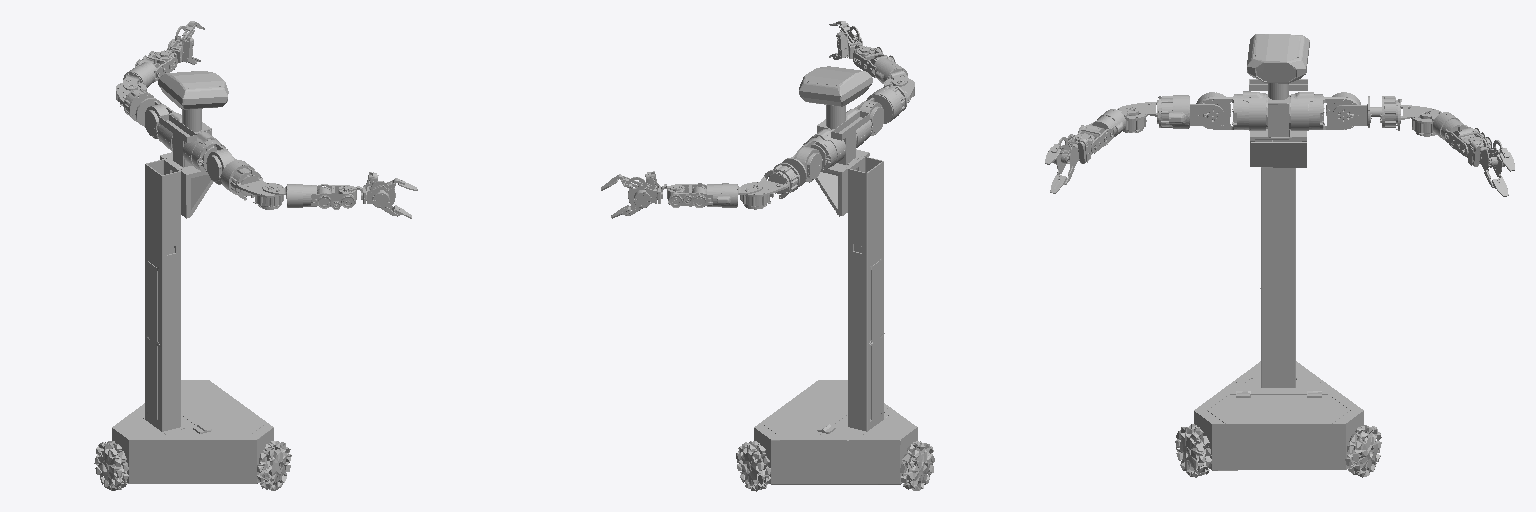
robot.urdf — my_robot:
<?xml version="1.0" encoding="utf-8"?>
<!-- This URDF was automatically created by SolidWorks to URDF Exporter! Originally created by Stephen Brawner (brawner@gmail.com) 
     Commit Version: 1.6.0-4-g7f85cfe  Build Version: 1.6.7995.38578
     For more information, please see http://wiki.ros.org/sw_urdf_exporter -->
<robot
  name="my_robot">
  <link name="root_link">...</link>
  <joint name="body_fixed" type="fixed">
    <origin rpy="0 0 0" xyz="0 0 0"/>
    <parent link="root_link"/>
    <child link="body_head_base_link"/>
  </joint>
  <link
    name="body_head_base_link">
    <inertial>
      <origin
        xyz="-0.0395726955586593 -0.000490933424187967 -0.808802318381516"
        rpy="0 0 0" />
      <mass
        value="22.0129076320108" />
      <inertia
        ixx="0.788487643897501"
        ixy="5.2148828473881E-05"
        ixz="0.00188458585705073"
        iyy="0.760376196080064"
        iyz="-3.79263008735117E-05"
        izz="0.258782982494664" />
    </inertial>
    <visual>
      <origin
        xyz="0 0 0"
        rpy="0 0 0" />
      <geometry>
        <mesh
          filename="../meshes/base_link.STL" />
      </geometry>
      <material
        name="">
        <color
          rgba="0.752941176470588 0.752941176470588 0.752941176470588 1" />
      </material>
    </visual>
    <collision>
      <origin
        xyz="0 0 0"
        rpy="0 0 0" />
      <geometry>
        <mesh
          filename="../meshes/base_link.STL" />
      </geometry>
    </collision>
  </link>
  <link
    name="Link_L1">
    <inertial>
      <origin
        xyz="-0.00622096860857377 -0.000551708897127759 0.0701255738766555"
        rpy="0 0 0" />
      <mass
        value="13.24688626577405" />
      <inertia
        ixx="0.00448926025495758"
        ixy="-2.2719531695474E-06"
        ixz="-2.32749336604218E-05"
        iyy="0.00357486768526562"
        iyz="4.75877953677058E-08"
        izz="0.00469426097973593" />
    </inertial>
    <visual>
      <origin
        xyz="0 0 0"
        rpy="0 0 0" />
      <geometry>
        <mesh
          filename="../meshes/Link_L1.STL" />
      </geometry>
      <material
        name="">
        <color
          rgba="0.752941176470588 0.752941176470588 0.752941176470588 1" />
      </material>
    </visual>
    <collision>
      <origin
        xyz="0 0 0"
        rpy="0 0 0" />
      <geometry>
        <mesh
          filename="../meshes/Link_L1.STL" />
      </geometry>
    </collision>
  </link>
  <joint
    name="l_joint1"
    type="revolute">
    <origin
      xyz="-0.000523299512978012 0.0953052927236054 -0.00147494305338181"
      rpy="-1.57037423820711 0 -0.00080319388884296" />
    <parent
      link="body_head_base_link" />
    <child
      link="Link_L1" />
    <axis
      xyz="0 0.00257547313323841 -0.99999668346357" />
    <limit
      lower="-1.8"
      upper="1.8"
      effort="0"
      velocity="0" />
  </joint>
  <link
    name="Link_L2">
    <inertial>
      <origin
        xyz="0.0702778492040597 -0.000847923281316096 -0.0197363162889606"
        rpy="0 0 0" />
      <mass
        value="0.180220326947674" />
      <inertia
        ixx="0.000163891525279795"
        ixy="3.04593422412682E-07"
        ixz="4.74390267618759E-05"
        iyy="0.000265484929884454"
        iyz="5.65887631509253E-07"
        izz="0.000271720748462501" />
    </inertial>
    <visual>
      <origin
        xyz="0 0 0"
        rpy="0 0 0" />
      <geometry>
        <mesh
          filename="../meshes/Link_L2.STL" />
      </geometry>
      <material
        name="">
        <color
          rgba="0.752941176470588 0.752941176470588 0.752941176470588 1" />
      </material>
    </visual>
    <collision>
      <origin
        xyz="0 0 0"
        rpy="0 0 0" />
      <geometry>
        <mesh
          filename="../meshes/Link_L2.STL" />
      </geometry>
    </collision>
  </link>
  <joint
    name="l_joint2"
    type="revolute">
    <origin
      xyz="0.0284999999999999 -0.000320646405089178 0.124499587091213"
      rpy="-0.734487126632078 -1.56695351255895 -2.40710919964933" />
    <parent
      link="Link_L1" />
    <child
      link="Link_L2" />
    <axis
      xyz="-0.00285204148913067 0 -0.999995932921402" />
    <limit
      lower="0"
      upper="1.9"
      effort="0"
      velocity="0" />
  </joint>
  <link
    name="Link_L3">
    <inertial>
      <origin
        xyz="-0.0169478766376025 -0.00894375786790924 0.0736061165005361"
        rpy="0 0 0" />
      <mass
        value="0.944101892000319" />
      <inertia
        ixx="0.000811225715143948"
        ixy="1.67427743837267E-06"
        ixz="5.26026555280172E-05"
        iyy="0.000965364589869333"
        iyz="-1.36356615143969E-05"
        izz="0.000926370435940605" />
    </inertial>
    <visual>
      <origin
        xyz="0 0 0"
        rpy="0 0 0" />
      <geometry>
        <mesh
          filename="../meshes/Link_L3.STL" />
      </geometry>
      <material
        name="">
        <color
          rgba="0.752941176470588 0.752941176470588 0.752941176470588 1" />
      </material>
    </visual>
    <collision>
      <origin
        xyz="0 0 0"
        rpy="0 0 0" />
      <geometry>
        <mesh
          filename="../meshes/Link_L3.STL" />
      </geometry>
    </collision>
  </link>
  <joint
    name="l_joint3"
    type="revolute">
    <origin
      xyz="0.12858076056284 0 -0.0281333967569068"
      rpy="0 1.5679442814393 0" />
    <parent
      link="Link_L2" />
    <child
      link="Link_L3" />
    <axis
      xyz="0 0 -1" />
    <limit
      lower="-2.60"
      upper="1.4"
      effort="0"
      velocity="0" />
  </joint>
  <link
    name="Link_L4">
    <inertial>
      <origin
        xyz="0.0284274073608016 -0.0705882517762382 -0.0172897359918851"
        rpy="0 0 0" />
      <mass
        value="0.134969510282772" />
      <inertia
        ixx="0.000103702648877659"
        ixy="1.35275461314136E-05"
        ixz="3.09800521393426E-06"
        iyy="8.35009684793085E-05"
        iyz="-9.57544156333126E-06"
        izz="8.68120958057744E-05" />
    </inertial>
    <visual>
      <origin
        xyz="0 0 0"
        rpy="0 0 0" />
      <geometry>
        <mesh
          filename="../meshes/Link_L4.STL" />
      </geometry>
      <material
        name="">
        <color
          rgba="0.752941176470588 0.752941176470588 0.752941176470588 1" />
      </material>
    </visual>
    <collision>
      <origin
        xyz="0 0 0"
        rpy="0 0 0" />
      <geometry>
        <mesh
          filename="../meshes/Link_L4.STL" />
      </geometry>
    </collision>
  </link>
  <joint
    name="l_joint4"
    type="revolute">
    <origin
      xyz="-0.0394395225535319 0.013809954439718 0.151105847162617"
      rpy="-1.5707963267949 0 0" />
    <parent
      link="Link_L3" />
    <child
      link="Link_L4" />
    <axis
      xyz="0 0 -1" />
    <limit
      lower="0.25"
      upper="1.9"
      effort="0"
      velocity="0" />
  </joint>
  <link
    name="Link_L5">
    <inertial>
      <origin
        xyz="-0.000224346582011301 -0.000757515781277585 -0.0624849918842907"
        rpy="0 0 0" />
      <mass
        value="0.578376916777973" />
      <inertia
        ixx="0.000437999253405115"
        ixy="-3.99995148344188E-09"
        ixz="-4.17302167877557E-08"
        iyy="0.000374540434696389"
        iyz="4.37239990946971E-07"
        izz="0.000312313081966596" />
    </inertial>
    <visual>
      <origin
        xyz="0 0 0"
        rpy="0 0 0" />
      <geometry>
        <mesh
          filename="../meshes/Link_L5.STL" />
      </geometry>
      <material
        name="">
        <color
          rgba="0.752941176470588 0.752941176470588 0.752941176470588 1" />
      </material>
    </visual>
    <collision>
      <origin
        xyz="0 0 0"
        rpy="0 0 0" />
      <geometry>
        <mesh
          filename="../meshes/Link_L5.STL" />
      </geometry>
    </collision>
  </link>
  <joint
    name="l_joint5"
    type="revolute">
    <origin
      xyz="0.0298875953138846 -0.10950001926102 -0.02101726764403"
      rpy="-1.56779876222666 0 0.000803193888832527" />
    <parent
      link="Link_L4" />
    <child
      link="Link_L5" />
    <axis
      xyz="0 0 1" />
    <limit
      lower="-1.79"
      upper="1.79"
      effort="0"
      velocity="0" />
  </joint>
  <link
    name="Link_L6">
    <inertial>
      <origin
        xyz="0.000662449221940142 -0.000550406839236128 0.0361352833772085"
        rpy="0 0 0" />
      <mass
        value="0.171828875921239" />
      <inertia
        ixx="8.05566694711738E-05"
        ixy="6.43323162845359E-10"
        ixz="1.36931448270043E-06"
        iyy="6.22788007038775E-05"
        iyz="-8.69273532803977E-10"
        izz="5.97407437374212E-05" />
    </inertial>
    <visual>
      <origin
        xyz="0 0 0"
        rpy="0 0 0" />
      <geometry>
        <mesh
          filename="../meshes/Link_L6.STL" />
      </geometry>
      <material
        name="">
        <color
          rgba="0.752941176470588 0.752941176470588 0.752941176470588 1" />
      </material>
    </visual>
    <collision>
      <origin
        xyz="0 0 0"
        rpy="0 0 0" />
      <geometry>
        <mesh
          filename="../meshes/Link_L6.STL" />
      </geometry>
    </collision>
  </link>
  <joint
    name="l_joint6"
    type="revolute">
    <origin
      xyz="0.042001635817149 -0.000724630037761853 -0.16648505966172"
      rpy="-1.5707963267949 0 1.5707963267949" />
    <parent
      link="Link_L5" />
    <child
      link="Link_L6" />
    <axis
      xyz="0 0 1" />
    <limit
      lower="-1.39"
      upper="1.39"
      effort="0"
      velocity="0" />
  </joint>
  <link
    name="Link_L7">
    <inertial>
      <origin
        xyz="0.00283768237231645 0.105216203472544 0.0401787874475281"
        rpy="0 0 0" />
      <mass
        value="0.354175566621878" />
      <inertia
        ixx="0.000216957048203233"
        ixy="3.89674309210907E-06"
        ixz="-4.87146243597934E-06"
        iyy="0.00013524087296399"
        iyz="-1.55322629278603E-05"
        izz="0.000141100848319185" />
    </inertial>
    <visual>
      <origin
        xyz="0 0 0"
        rpy="-3.14 0 1.57" />
      <geometry>
        <mesh
          filename="../meshes/Link_L7.STL" />
      </geometry>
      <material
        name="">
        <color
          rgba="0.752941176470588 0.752941176470588 0.752941176470588 1" />
      </material>
    </visual>
    <collision>
      <origin
        xyz="0 0 0"
        rpy="1.57 0 -1.57" />
      <geometry>
        <mesh
          filename="../meshes/Link_L7.STL" />
      </geometry>
    </collision>
  </link>
  <joint
    name="l_joint7"
    type="revolute">
    <origin
      xyz="-0.030999999999997 0 0.041999999999999"
      rpy="-1.5707963267949 0 1.5707963267949" />
    <parent
      link="Link_L6" />
    <child
      link="Link_L7" />
    <axis
      xyz="0 0 -1" />
    <limit
      lower="-0.6"
      upper="0.6"
      effort="0"
      velocity="0" />
  </joint>
  <link
    name="Link_L8">
    <inertial>
      <origin
        xyz="0.0658327997364676 -0.0167486810232525 0.00405704005705805"
        rpy="0 0 0" />
      <mass
        value="0.103465559541858" />
      <inertia
        ixx="1.20687682740846E-05"
        ixy="1.64000296963822E-06"
        ixz="8.49147736848476E-08"
        iyy="3.03401882912199E-05"
        iyz="-1.46257014335449E-08"
        izz="3.40694216131428E-05" />
    </inertial>
    <visual>
      <origin
        xyz="-0.1 -0.03 0.02"
        rpy="1.57 -1.57 1.57" />
      <geometry>
        <mesh
          filename="../meshes/Link_L8.STL" />
      </geometry>
      <material
        name="">
        <color
          rgba="0.752941176470588 0.752941176470588 0.752941176470588 1" />
      </material>
    </visual>
    <collision>
      <origin
        xyz="0 0 0"
        rpy="0 0 0" />
      <geometry>
        <mesh
          filename="../meshes/Link_L8.STL" />
      </geometry>
    </collision>
  </link>
  <joint
    name="l_joint8"
    type="revolute">
    <origin
      xyz="0.09049999999999989 0.101332760309079 0.0304068201216476"
      rpy="1.5707963267949 0 1.56874748814143" />
    <parent
      link="Link_L7" />
    <child
      link="Link_L8" />
    <axis
      xyz="1 0 0" />
    <limit
      lower="0"
      upper="0.6"
      effort="0"
      velocity="0" />
  </joint>
  <link
    name="Link_R1">
    <inertial>
      <origin
        xyz="-0.00616219687904292 -0.000141488074097751 -0.0694269573729014"
        rpy="0 0 0" />
      <mass
        value="3.28307302760882" />
      <inertia
        ixx="0.00449648787808696"
        ixy="2.33189192958491E-06"
        ixz="2.32688011320957E-05"
        iyy="0.00358048650747306"
        iyz="-7.97382955038679E-06"
        izz="0.00470733456558145" />
    </inertial>
    <visual>
      <origin
        xyz="0 0 0"
        rpy="0 0 0" />
      <geometry>
        <mesh
          filename="../meshes/Link_R1.STL" />
      </geometry>
      <material
        name="">
        <color
          rgba="0.752941176470588 0.752941176470588 0.752941176470588 1" />
      </material>
    </visual>
    <collision>
      <origin
        xyz="0 0 0"
        rpy="0 0 0" />
      <geometry>
        <mesh
          filename="../meshes/Link_R1.STL" />
      </geometry>
    </collision>
  </link>
  <joint
    name="r_joint1"
    type="revolute">
    <origin
      xyz="0 -0.0955000000000005 0"
      rpy="-1.5707963267949 0 0" />
    <parent
      link="body_head_base_link" />
    <child
      link="Link_R1" />
    <axis
      xyz="0 0 1" />
    <limit
      lower="-1.8"
      upper="1.8"
      effort="0"
      velocity="0" />
  </joint>
  <link
    name="Link_R2">
    <inertial>
      <origin
        xyz="-0.0628156213151811 3.15860613274155E-05 -0.0191651892962703"
        rpy="0 0 0" />
      <mass
        value="0.199698024204879" />
      <inertia
        ixx="0.000163754968712709"
        ixy="3.0620881642617E-07"
        ixz="-4.77457979345335E-05"
        iyy="0.000265315670352152"
        iyz="-3.46551631692825E-07"
        izz="0.000276694586610276" />
    </inertial>
    <visual>
      <origin
        xyz="0 0 0"
        rpy="0 0 0" />
      <geometry>
        <mesh
          filename="../meshes/Link_R2.STL" />
      </geometry>
      <material
        name="">
        <color
          rgba="0.752941176470588 0.752941176470588 0.752941176470588 1" />
      </material>
    </visual>
    <collision>
      <origin
        xyz="0 0 0"
        rpy="0 0 0" />
      <geometry>
        <mesh
          filename="../meshes/Link_R2.STL" />
      </geometry>
    </collision>
  </link>
  <joint
    name="r_joint2"
    type="revolute">
    <origin
      xyz="0.0284999999999986 0 -0.124499999999997"
      rpy="-1.60027367316405 -1.57079630572147 -1.54119308228771" />
    <parent
      link="Link_R1" />
    <child
      link="Link_R2" />
    <axis
      xyz="0 0 -1" />
    <limit
      lower="-1.9"
      upper="0.0"
      effort="0"
      velocity="0" />
  </joint>
  <link
    name="Link_R3">
    <inertial>
      <origin
        xyz="-0.0129183041670598 -0.000527245651984934 -0.777996021971953"
        rpy="0 0 0" />
      <mass
        value="1.08610746618923" />
      <inertia
        ixx="0.00119021749994985"
        ixy="7.06055980002038E-06"
        ixz="-0.000139182680464227"
        iyy="0.00153095824355109"
        iyz="3.73440988867181E-05"
        izz="0.00116655547161225" />
    </inertial>
    <visual>
      <origin
        xyz="0 0 0"
        rpy="0 0 0" />
      <geometry>
        <mesh
          filename="../meshes/Link_R3.STL" />
      </geometry>
      <material
        name="">
        <color
          rgba="0.752941176470588 0.752941176470588 0.752941176470588 1" />
      </material>
    </visual>
    <collision>
      <origin
        xyz="0 0 0"
        rpy="0 0 0" />
      <geometry>
        <mesh
          filename="../meshes/Link_R3.STL" />
      </geometry>
    </collision>
  </link>
  <joint
    name="r_joint3"
    type="revolute">
    <origin
      xyz="0.568304074464099 -0.000716560353346996 -0.0288200914809485"
      rpy="-0.00149878247169826 1.5699931320041 0.00149878257998731" />
    <parent
      link="Link_R2" />
    <child
      link="Link_R3" />
    <axis
      xyz="0.000803193802482629 -0.00299756007919128 0.99999518474505" />
    <limit
      lower="-1.3"
      upper="2.6"
      effort="0"
      velocity="0" />
  </joint>
  <link
    name="Link_R4">
    <inertial>
      <origin
        xyz="0.0256862638025771 -0.0548685022052413 0.0146267983656275"
        rpy="0 0 0" />
      <mass
        value="0.141136595421556" />
      <inertia
        ixx="0.000110509414847405"
        ixy="2.44586238438545E-05"
        ixz="-6.19210910237137E-06"
        iyy="8.33430035429651E-05"
        iyz="1.91510482516803E-05"
        izz="0.000124912018368811" />
    </inertial>
    <visual>
      <origin
        xyz="0 0 0"
        rpy="0 0 0" />
      <geometry>
        <mesh
          filename="../meshes/Link_R4.STL" />
      </geometry>
      <material
        name="">
        <color
          rgba="0.752941176470588 0.752941176470588 0.752941176470588 1" />
      </material>
    </visual>
    <collision>
      <origin
        xyz="0 0 0"
        rpy="0 0 0" />
      <geometry>
        <mesh
          filename="../meshes/Link_R4.STL" />
      </geometry>
    </collision>
  </link>
  <joint
    name="r_joint4"
    type="revolute">
    <origin
      xyz="-0.0309965889705919 0.0242412833558991 -0.842210568951295"
      rpy="1.57379389233003 0.000803193888838036 0" />
    <parent
      link="Link_R3" />
    <child
      link="Link_R4" />
    <axis
      xyz="0 0 1" />
    <limit
      lower="-1.9"
      upper="-0.25"
      effort="0"
      velocity="0" />
  </joint>
  <link
    name="Link_R5">
    <inertial>
      <origin
        xyz="0.00111011053064769 -0.000126690812702557 -0.0561799531115378"
        rpy="0 0 0" />
      <mass
        value="0.627666951795782" />
      <inertia
        ixx="0.000482796123302516"
        ixy="-2.81546422968087E-08"
        ixz="1.39270960413248E-06"
        iyy="0.000394902283487047"
        iyz="-1.40365282622155E-07"
        izz="0.000352281245856579" />
    </inertial>
    <visual>
      <origin
        xyz="0 0 0"
        rpy="0 0 0" />
      <geometry>
        <mesh
          filename="../meshes/Link_R5.STL" />
      </geometry>
      <material
        name="">
        <color
          rgba="0.752941176470588 0.752941176470588 0.752941176470588 1" />
      </material>
    </visual>
    <collision>
      <origin
        xyz="0 0 0"
        rpy="0 0 0" />
      <geometry>
        <mesh
          filename="../meshes/Link_R5.STL" />
      </geometry>
    </collision>
  </link>
  <joint
    name="r_joint5"
    type="revolute">
    <origin
      xyz="0.0299999999999959 -0.1095 0.0210000000000064"
      rpy="1.5707963267949 0 -3.14159265358979" />
    <parent
      link="Link_R4" />
    <child
      link="Link_R5" />
    <axis
      xyz="0 0 1" />
    <limit
      lower="-1.79"
      upper="1.79"
      effort="0"
      velocity="0" />
  </joint>
  <link
    name="Link_R6">
    <inertial>
      <origin
        xyz="-0.00068794251072235 -0.000150935391365681 0.0336514734530634"
        rpy="0 0 0" />
      <mass
        value="0.169440433622254" />
      <inertia
        ixx="8.03454243245386E-05"
        ixy="-3.24916395121271E-10"
        ixz="-1.30540179649036E-06"
        iyy="6.20575087869303E-05"
        iyz="8.87586020410935E-10"
        izz="5.93158249519476E-05" />
    </inertial>
    <visual>
      <origin
        xyz="0 0 0"
        rpy="0 0 0" />
      <geometry>
        <mesh
          filename="../meshes/Link_R6.STL" />
      </geometry>
      <material
        name="">
        <color
          rgba="0.752941176470588 0.752941176470588 0.752941176470588 1" />
      </material>
    </visual>
    <collision>
      <origin
        xyz="0 0 0"
        rpy="0 0 0" />
      <geometry>
        <mesh
          filename="../meshes/Link_R6.STL" />
      </geometry>
    </collision>
  </link>
  <joint
    name="r_joint6"
    type="revolute">
    <origin
      xyz="-0.0389999574169062 5.76322783243932E-05 -0.166"
      rpy="-1.5707963267949 0 -1.572274078059" />
    <parent
      link="Link_R5" />
    <child
      link="Link_R6" />
    <axis
      xyz="0 0 1" />
    <limit
      lower="-1.39"
      upper="1.39"
      effort="0"
      velocity="0" />
  </joint>
  <link
    name="Link_R7">
    <inertial>
      <origin
       xyz="0.002020438491527 0.10294066049136 -0.038764406607954"
       rpy="-1.570803693350848 -0.000000000738088 -1.570803693350848" />
      <mass
        value="0.310476336018042" />
      <inertia
        ixx="0.000187925190373557"
        ixy="3.86479989670896E-06"
        ixz="4.84718693904632E-06"
        iyy="0.000119950206882825"
        iyz="1.32962136560891E-05"
        izz="0.000126584382871846" />
    </inertial>
    <visual>
      <origin
        xyz="0 0 0"
        rpy="0 0 -1.57" />
      <geometry>
        <mesh
          filename="../meshes/Link_R7.STL" />
      </geometry>
      <material
        name="">
        <color
          rgba="0.752941176470588 0.752941176470588 0.752941176470588 1" />
      </material>
    </visual>
    <collision>
      <origin
        xyz="0 0 0"
        rpy="-0.000000004231976 0.001353056934356 0.000003693296223" />
      <geometry>
        <mesh
          filename="../meshes/Link_R7.STL" />
      </geometry>
    </collision>
  </link>
  <joint
    name="r_joint7"
    type="revolute">
    <origin
      xyz="0.0301 0.0 0.039"
      rpy="1.570796306703796 -0.00000000425916 1.570796306703796" />
    <parent
      link="Link_R6" />
    <child
      link="Link_R7" />
    <axis
      xyz="0 0 -1" />
    <limit
      lower="-0.6"
      upper="0.6"
      effort="0"
      velocity="0" />
  </joint>
  <link
    name="Link_R8">
    <inertial>
      <origin
        xyz="0.0681461967432087 0.0184540545222517 0.00337162344833551"
        rpy="0 0 0" />
      <mass
        value="0.100352157191233" />
      <inertia
        ixx="1.08437569412745E-05"
        ixy="-2.60464753285215E-06"
        ixz="4.0161570679672E-08"
        iyy="2.90818584068672E-05"
        iyz="1.32009740527302E-08"
        izz="3.15993673584638E-05" />
    </inertial>
    <visual>
      <origin
        xyz="0 0 0"
        rpy="0 -1.57 0" />
      <geometry>
        <mesh
          filename="../meshes/Link_R8.STL" />
      </geometry>
      <material
        name="">
        <color
          rgba="0.752941176470588 0.752941176470588 0.752941176470588 1" />
      </material>
    </visual>
    <collision>
      <origin
        xyz="0 0 0"
        rpy="0 0 0" />
      <geometry>
        <mesh
          filename="../meshes/Link_R8.STL" />
      </geometry>
    </collision>
  </link>
  <joint
    name="r_joint8"
    type="revolute">
    <origin
      xyz="0.0854228 -0.007364 -0.0093106"
      rpy="1.5708 0 1.5708" />
    <parent
      link="Link_R7" />
    <child
      link="Link_R8" />
    <axis
      xyz="1 0 0" />
    <limit
      lower="0"
      upper="0.6"
      effort="0"
      velocity="0" />
  </joint>
</robot>

--- Facts derived from the render (not from the file) ---
The picture shows the robot from 3 angles, left to right: view 1: azimuth 30°, elevation 25°; view 2: azimuth 150°, elevation 25°; view 3: azimuth 270°, elevation 25°; orthographic projection.
Robot: my_robot — 18 links, 17 joints (16 revolute, 1 fixed); root link root_link; default pose: all joints at 0 but 2 set to mid-range because 0 is outside their limits (l_joint4 = 1.07, r_joint4 = -1.07).
Links seen in each view (by area): view 1: body_head_base_link, Link_R3, Link_R1, Link_R5, Link_R7, Link_L1, Link_L3, Link_L7, Link_L5; view 2: body_head_base_link, Link_L1, Link_L3, Link_L7, Link_R1, Link_R5, Link_L5, Link_R3, Link_L4, Link_R7; view 3: body_head_base_link, Link_L1, Link_R1, Link_R3, Link_L3, Link_R5, Link_L7, Link_R7, Link_L2, Link_L5, Link_R2.
Link boxes in pixels (left/top/right/bottom): body_head_base_link: left=94, top=71, right=291, bottom=490; Link_R3: left=221, top=160, right=283, bottom=209; Link_R1: left=183, top=131, right=233, bottom=184; Link_R5: left=264, top=184, right=354, bottom=209; Link_R7: left=343, top=172, right=411, bottom=218; Link_L1: left=145, top=104, right=181, bottom=151; Link_L3: left=116, top=82, right=153, bottom=121; Link_L7: left=160, top=36, right=200, bottom=64; Link_L5: left=129, top=52, right=177, bottom=90; body_head_base_link: left=736, top=66, right=934, bottom=491; Link_L1: left=794, top=129, right=845, bottom=182; Link_L3: left=740, top=163, right=799, bottom=209; Link_L7: left=611, top=171, right=680, bottom=218; Link_R1: left=846, top=100, right=883, bottom=147; Link_R5: left=853, top=48, right=907, bottom=86; Link_L5: left=670, top=183, right=757, bottom=207; Link_R3: left=866, top=78, right=914, bottom=123; Link_L4: left=717, top=183, right=762, bottom=207; Link_R7: left=829, top=31, right=869, bottom=59; body_head_base_link: left=1175, top=34, right=1381, bottom=477; Link_L1: left=1291, top=92, right=1360, bottom=130; Link_R1: left=1196, top=91, right=1265, bottom=130; Link_R3: left=1118, top=95, right=1188, bottom=132; Link_L3: left=1338, top=96, right=1440, bottom=136; Link_R5: left=1072, top=109, right=1138, bottom=153; Link_L7: left=1468, top=137, right=1508, bottom=196; Link_R7: left=1050, top=134, right=1090, bottom=193; Link_L2: left=1333, top=96, right=1381, bottom=127; Link_L5: left=1420, top=116, right=1486, bottom=156; Link_R2: left=1189, top=96, right=1223, bottom=127.
Size in the robot's own frame: 0.8598 by 1.59 by 1.53 metres.
17 mesh visuals loaded from 17 distinct referenced files (17 binary STL).
